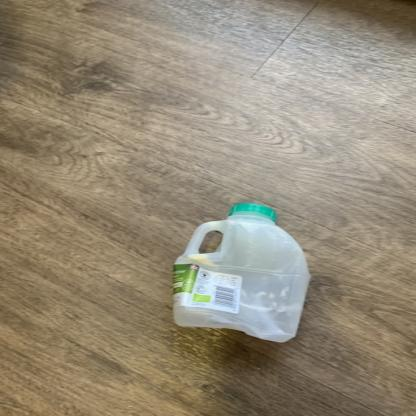trash: (170, 198, 316, 345)
